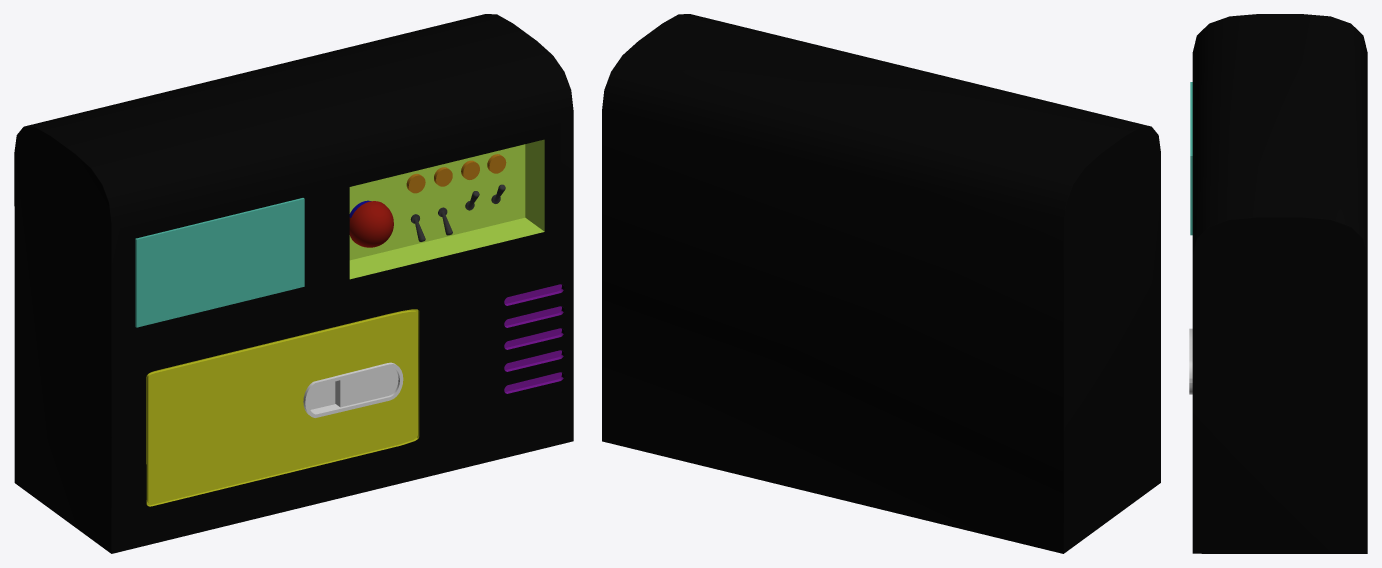
The model's file is Generador (2).fbx.
3 views of the same model, side by side, from view 1: azimuth 30°, elevation 25°; view 2: azimuth 150°, elevation 25°; view 3: azimuth 270°, elevation 25° (orthographic). The views are drawn at different scales.
Parts seen in each view (by area): view 1: Box030; view 2: Box030; view 3: Box030.
Boxes of the visible parts, <box> form: Box030: <box>14,14,573,553</box>; Box030: <box>602,14,1160,553</box>; Box030: <box>1189,14,1367,553</box>.
Bounding box in the file's own units: 2.2 × 1.7 × 0.8154.
